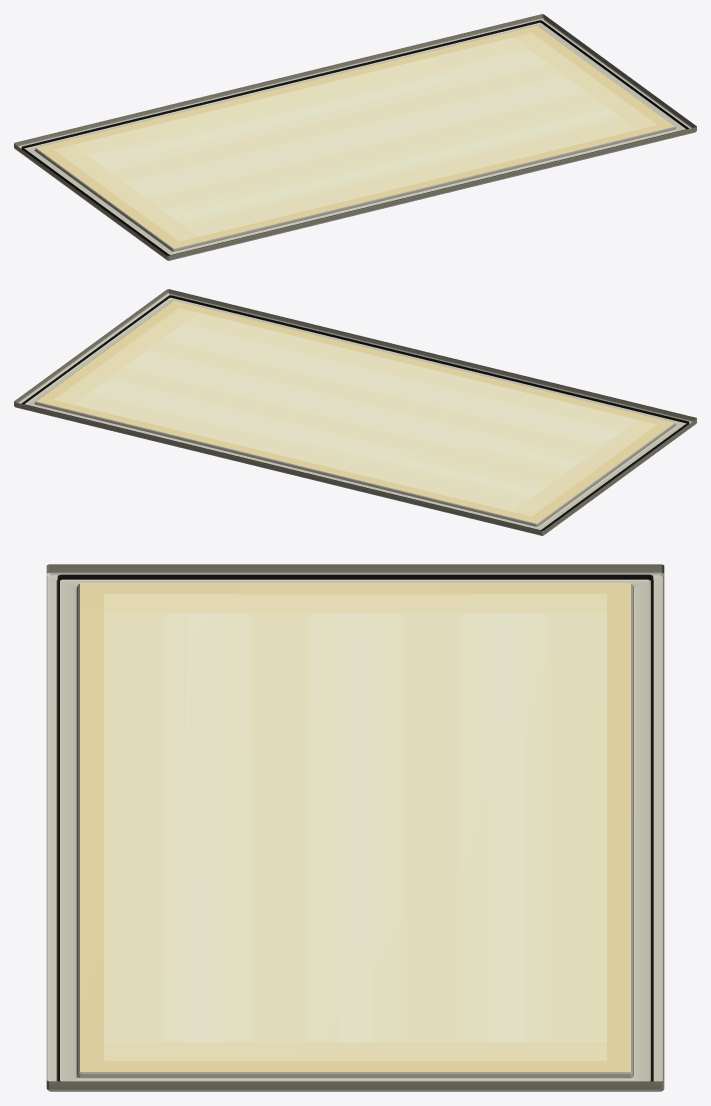
Rendered from troffer@2.glb.
3 renders of one model, top to bottom at view 1: azimuth 30°, elevation 25°; view 2: azimuth 150°, elevation 25°; view 3: azimuth 270°, elevation 25°, orthographic. The views are drawn at different scales.
Parts seen in each view (by area): view 1: rasterleuchte; view 2: rasterleuchte; view 3: rasterleuchte.
Part boxes in pixels (x1,y1,x2,y2): rasterleuchte: (14, 14, 696, 260); rasterleuchte: (14, 289, 696, 535); rasterleuchte: (46, 564, 664, 1091).
Bounding box in the file's own units: 1.21 × 0.0122 × 0.612.
